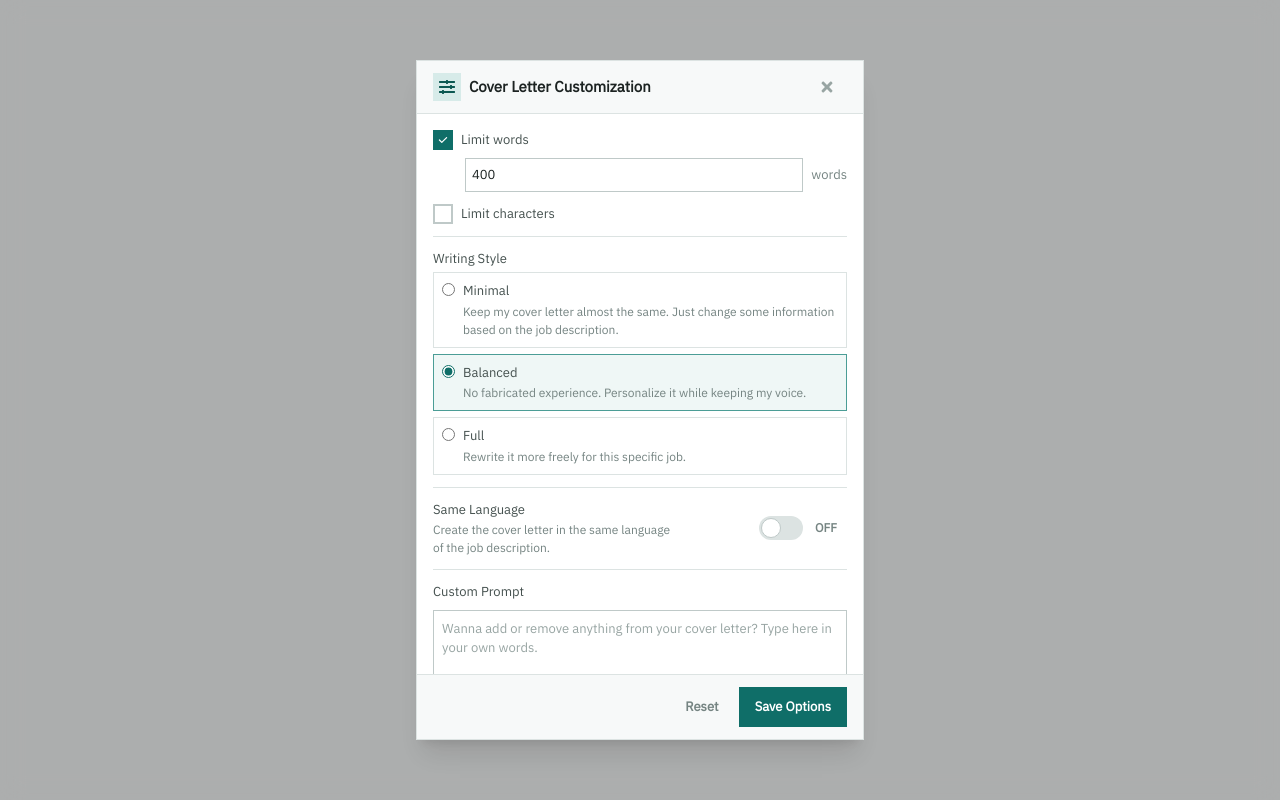
CustomizeModal › shows validation error and blocks save when limitWords is enabled with invalid count
Replace the text in the field with placeholder "Numbers should be between 50 - 1000" with "25" at (634, 175), box left=465, top=158, right=803, bottom=192
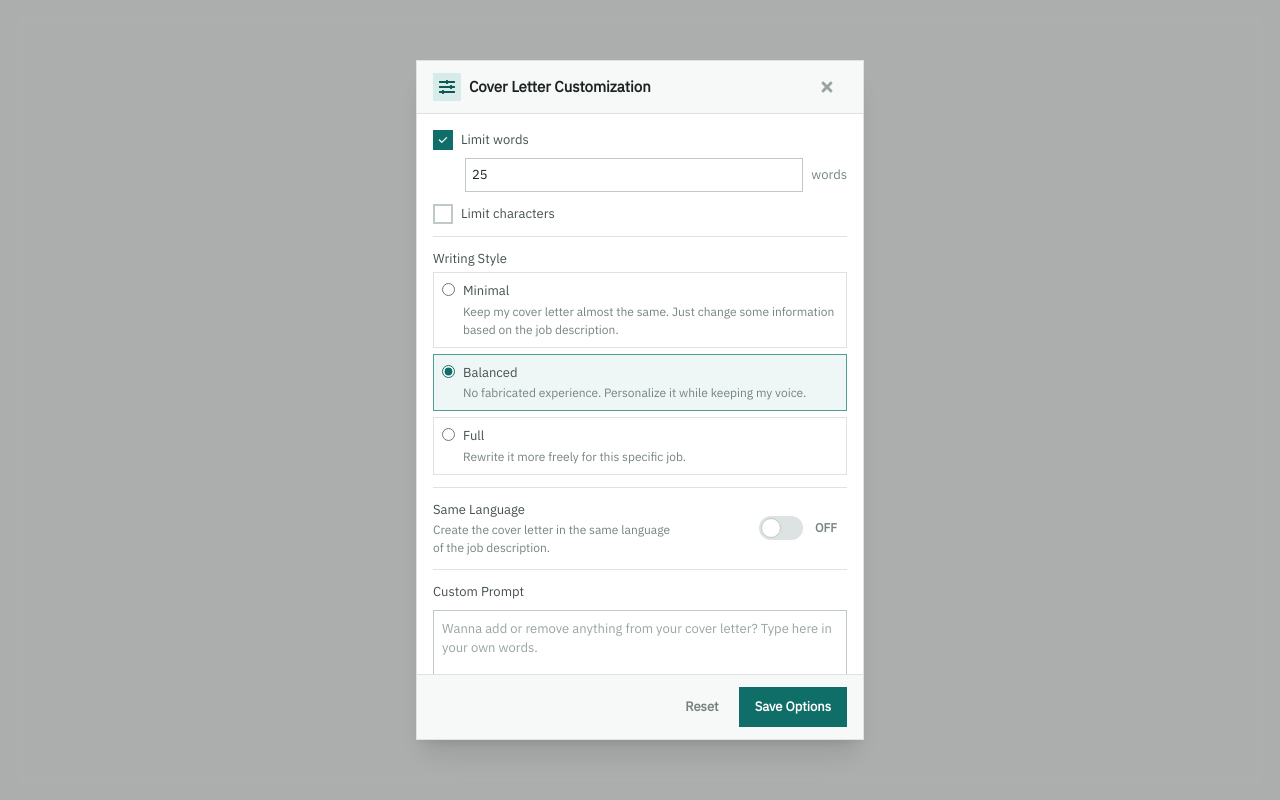
Click the button "Save Options" at (793, 707), box left=739, top=687, right=847, bottom=727
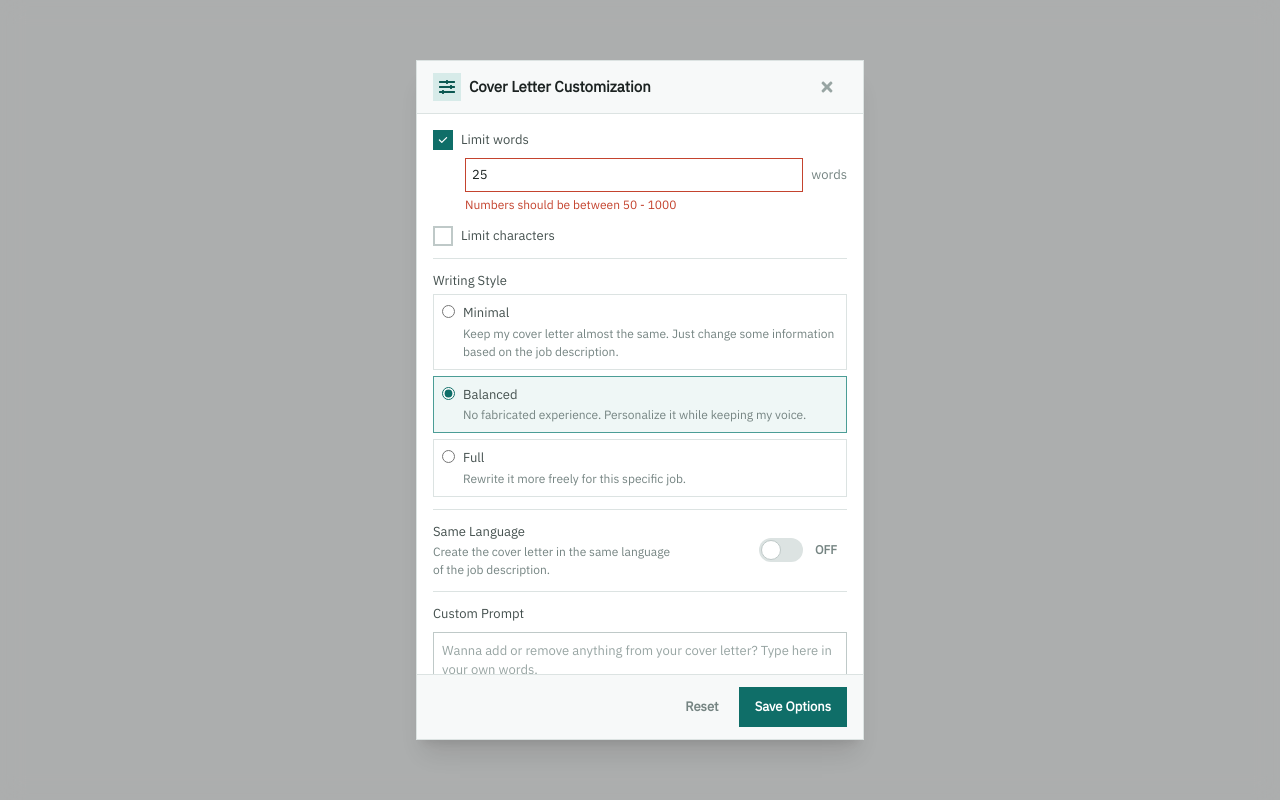
Result: the text "Numbers should be between 50 - 1000" is shown at left=465, top=196, right=676, bottom=212
